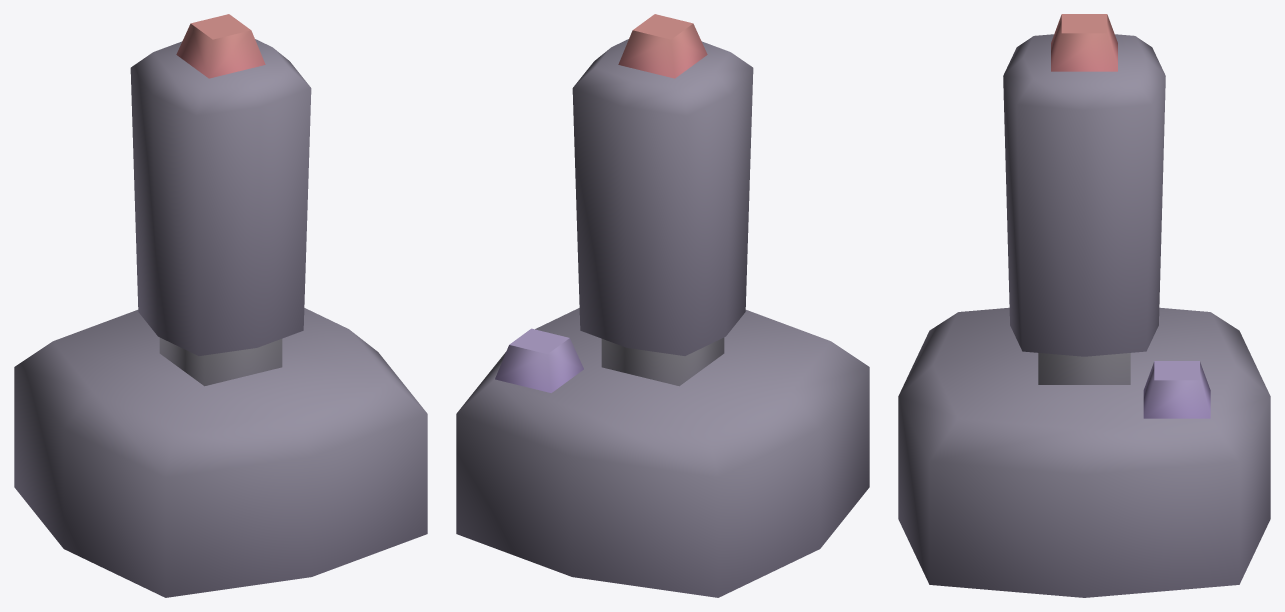
The model's file is joystick (%secret).glb.
3 renders of one model, left to right at view 1: azimuth 30°, elevation 25°; view 2: azimuth 150°, elevation 25°; view 3: azimuth 270°, elevation 25°, orthographic. The views are drawn at different scales.
Parts seen in each view (by area): view 1: joystick (%secret); view 2: joystick (%secret); view 3: joystick (%secret).
Part boxes in pixels (bbox=[...]): joystick (%secret): bbox=[14, 14, 427, 597]; joystick (%secret): bbox=[456, 14, 869, 597]; joystick (%secret): bbox=[898, 14, 1270, 597].
Bounding box in the file's own units: 0.1818 × 0.2672 × 0.1818.
